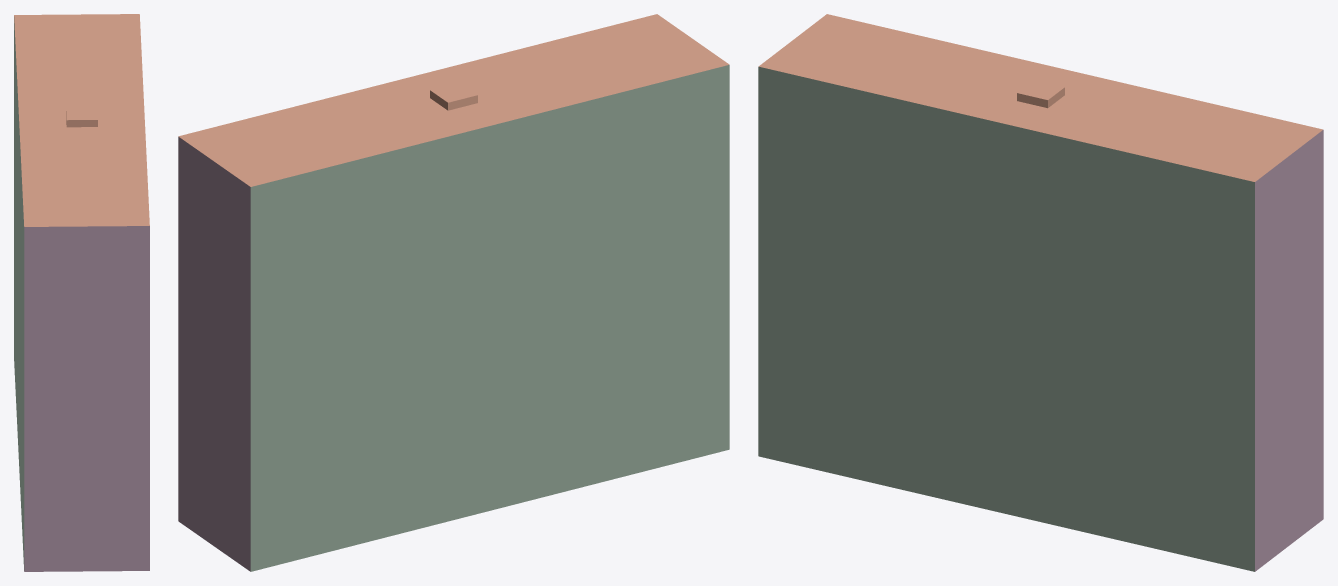
File: doitt-835659__lod_1.glb
3 renders of one model, left to right at view 1: azimuth 30°, elevation 25°; view 2: azimuth 150°, elevation 25°; view 3: azimuth 270°, elevation 25°, orthographic. The views are drawn at different scales.
Size of the model in its own units: 21.41 by 23.61 by 30.4.
